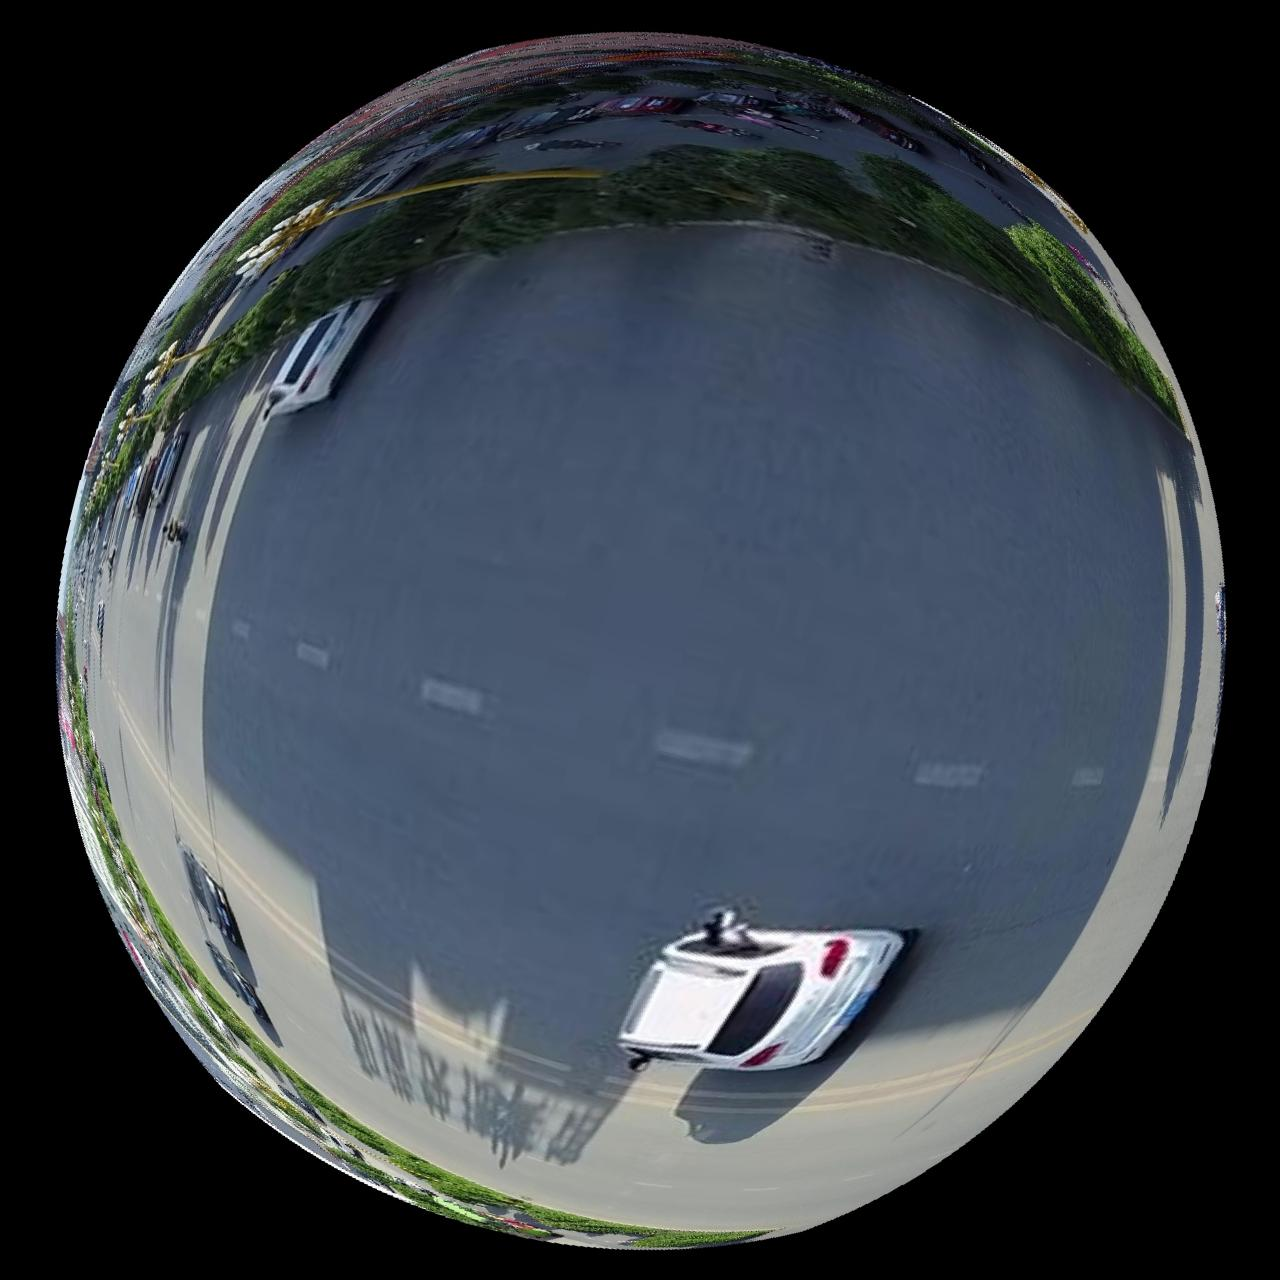cars: (619, 911, 907, 1071), (265, 293, 384, 415), (179, 846, 243, 951), (204, 942, 271, 1032)
trees: (859, 149, 1074, 326), (1006, 217, 1183, 421), (713, 144, 917, 251), (406, 176, 602, 263), (592, 141, 761, 224)
